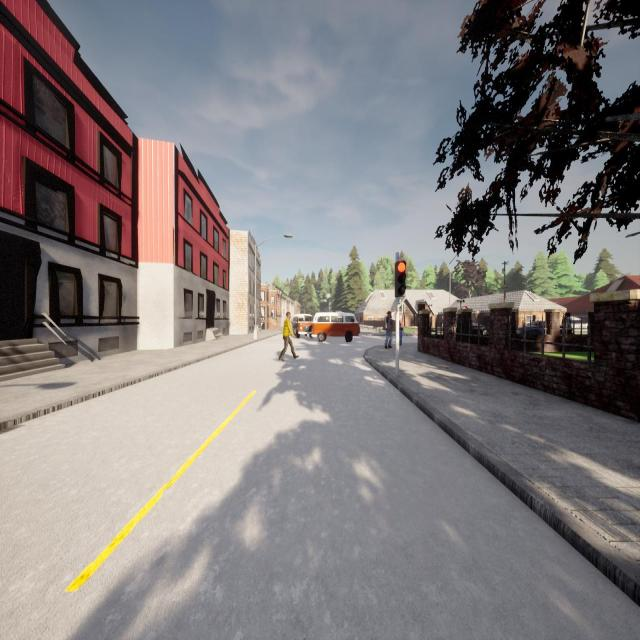Pedestrian: (279, 312, 298, 362), (384, 310, 394, 350), (561, 312, 573, 334), (398, 322, 404, 347)
Traffic_Signs: (461, 306, 468, 310)
Vehicle: (312, 312, 360, 342), (291, 314, 313, 339), (515, 321, 546, 336)
traffic_light: (395, 260, 406, 297)
